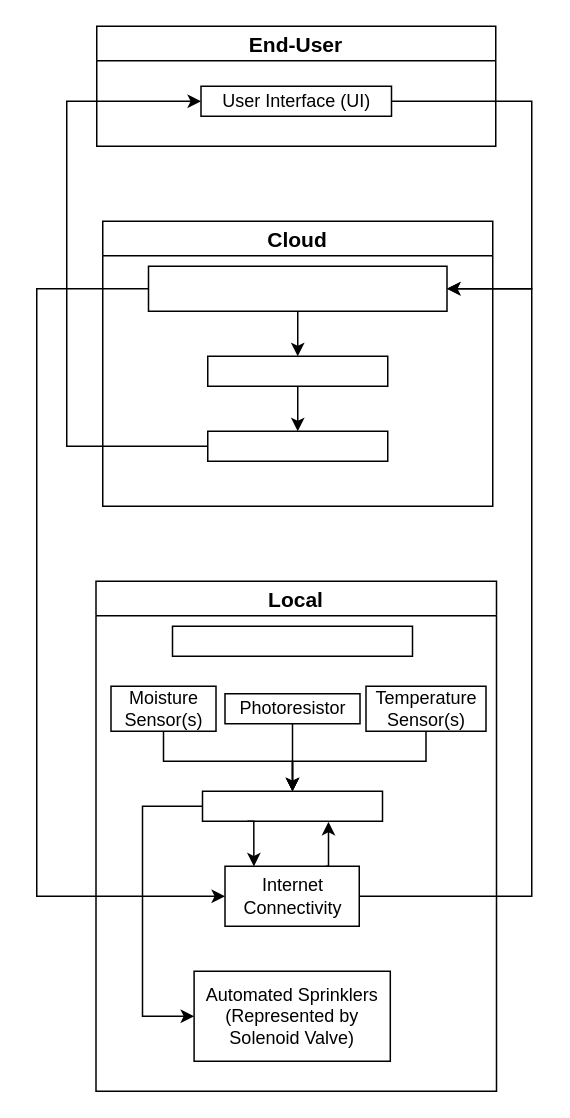
This 570x1118 diagram has some shape labels left out. The shapes that lost their labels are listed below. From the top down, each one's centre as x and y in pixels, then its label:
At (297,288): "Amazon Web Services (AWS)".
At (297,370): "Data Collection".
At (297,445): "Data Storage".
At (291,640): "Sensors".
At (291,805): "Raspberry Pi (SBC)".
